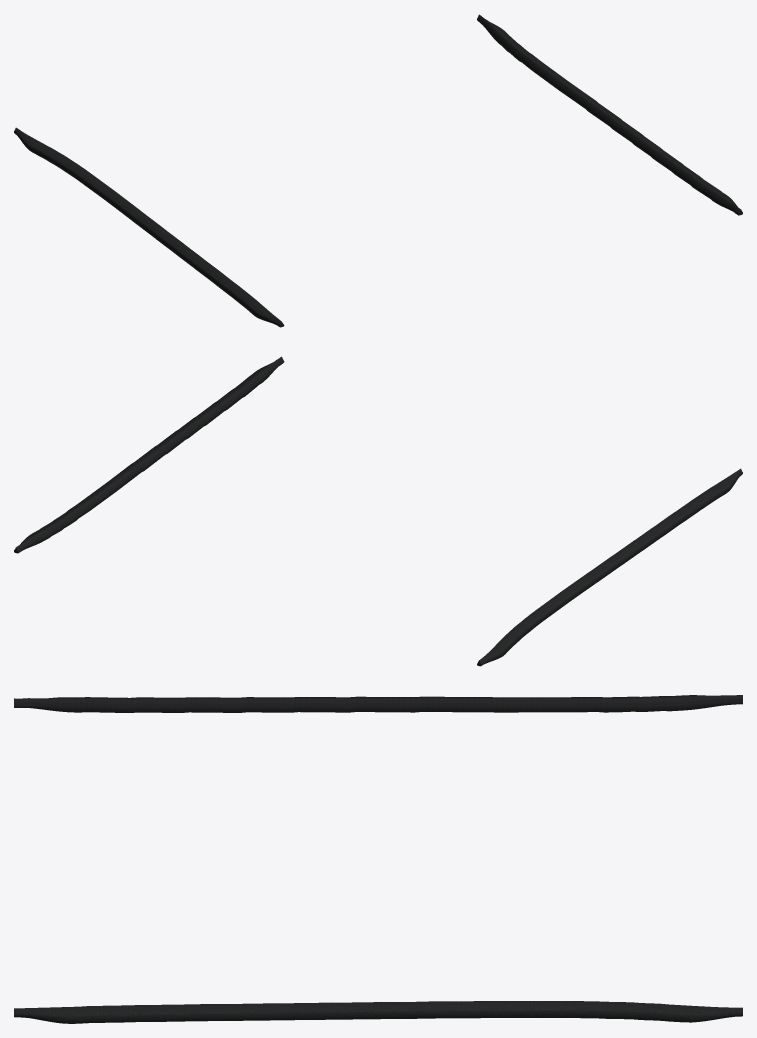
Rendered from RA06B_side_skirts_carbon.glb.
3 views of the same model, one above another, from view 1: azimuth 30°, elevation 25°; view 2: azimuth 150°, elevation 25°; view 3: azimuth 270°, elevation 25° (orthographic). The views are drawn at different scales.
Parts seen in each view (by area): view 1: MOD_ND_RA06B_blade_R, MOD_ND_RA06B_blade_L; view 2: MOD_ND_RA06B_blade_R, MOD_ND_RA06B_blade_L; view 3: MOD_ND_RA06B_blade_L, MOD_ND_RA06B_blade_R.
Boxes of the visible parts, bbox=[...] form: MOD_ND_RA06B_blade_R: bbox=[14, 127, 284, 327]; MOD_ND_RA06B_blade_L: bbox=[477, 14, 742, 215]; MOD_ND_RA06B_blade_R: bbox=[477, 468, 742, 666]; MOD_ND_RA06B_blade_L: bbox=[14, 356, 284, 553]; MOD_ND_RA06B_blade_L: bbox=[14, 1001, 742, 1023]; MOD_ND_RA06B_blade_R: bbox=[14, 695, 742, 712].
Size of the model in its own units: 1.64 by 0.0344 by 1.58.
1 material, 1 textured.
